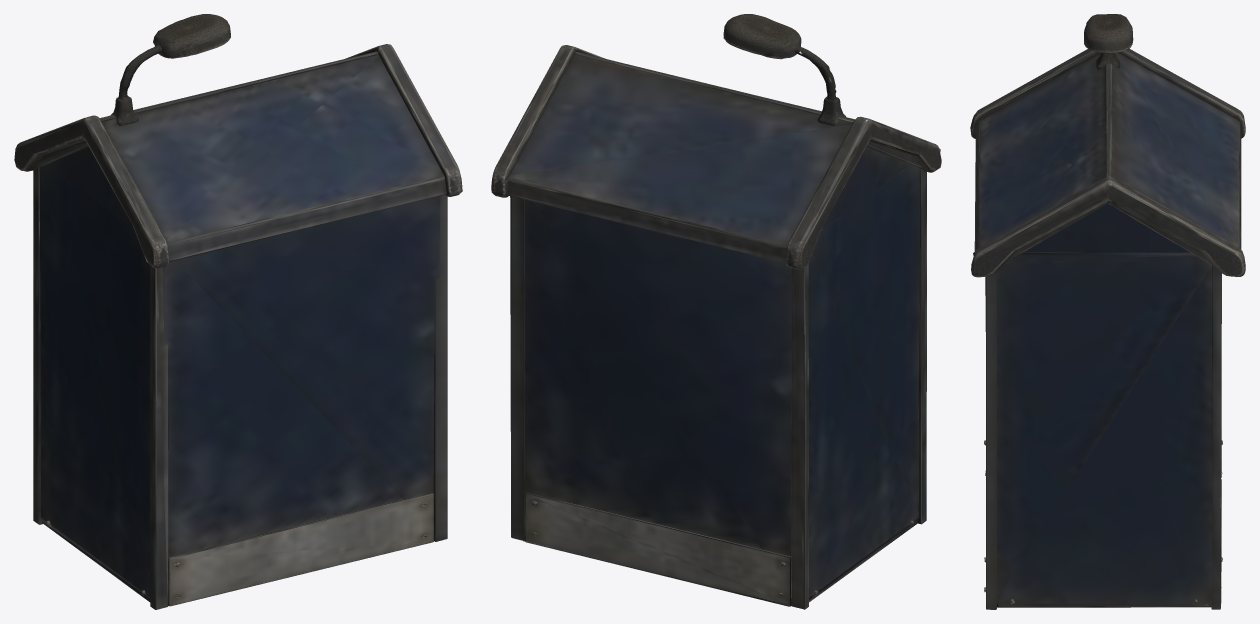
File: p7-security-podium-t25.glb
The picture shows the model from 3 angles, left to right: view 1: azimuth 30°, elevation 25°; view 2: azimuth 150°, elevation 25°; view 3: azimuth 270°, elevation 25°; orthographic projection. The views are drawn at different scales.
Visible parts, largest first — view 1: p7-security-podium-t25; view 2: p7-security-podium-t25; view 3: p7-security-podium-t25.
Part boxes in pixels (x1=…): p7-security-podium-t25: x1=14, y1=14, x2=462, y2=609; p7-security-podium-t25: x1=491, y1=14, x2=941, y2=609; p7-security-podium-t25: x1=970, y1=14, x2=1245, y2=609.
Bounding box in the file's own units: 0.75 × 1.2 × 0.6.
Materials: 1 (1 with a texture image).
